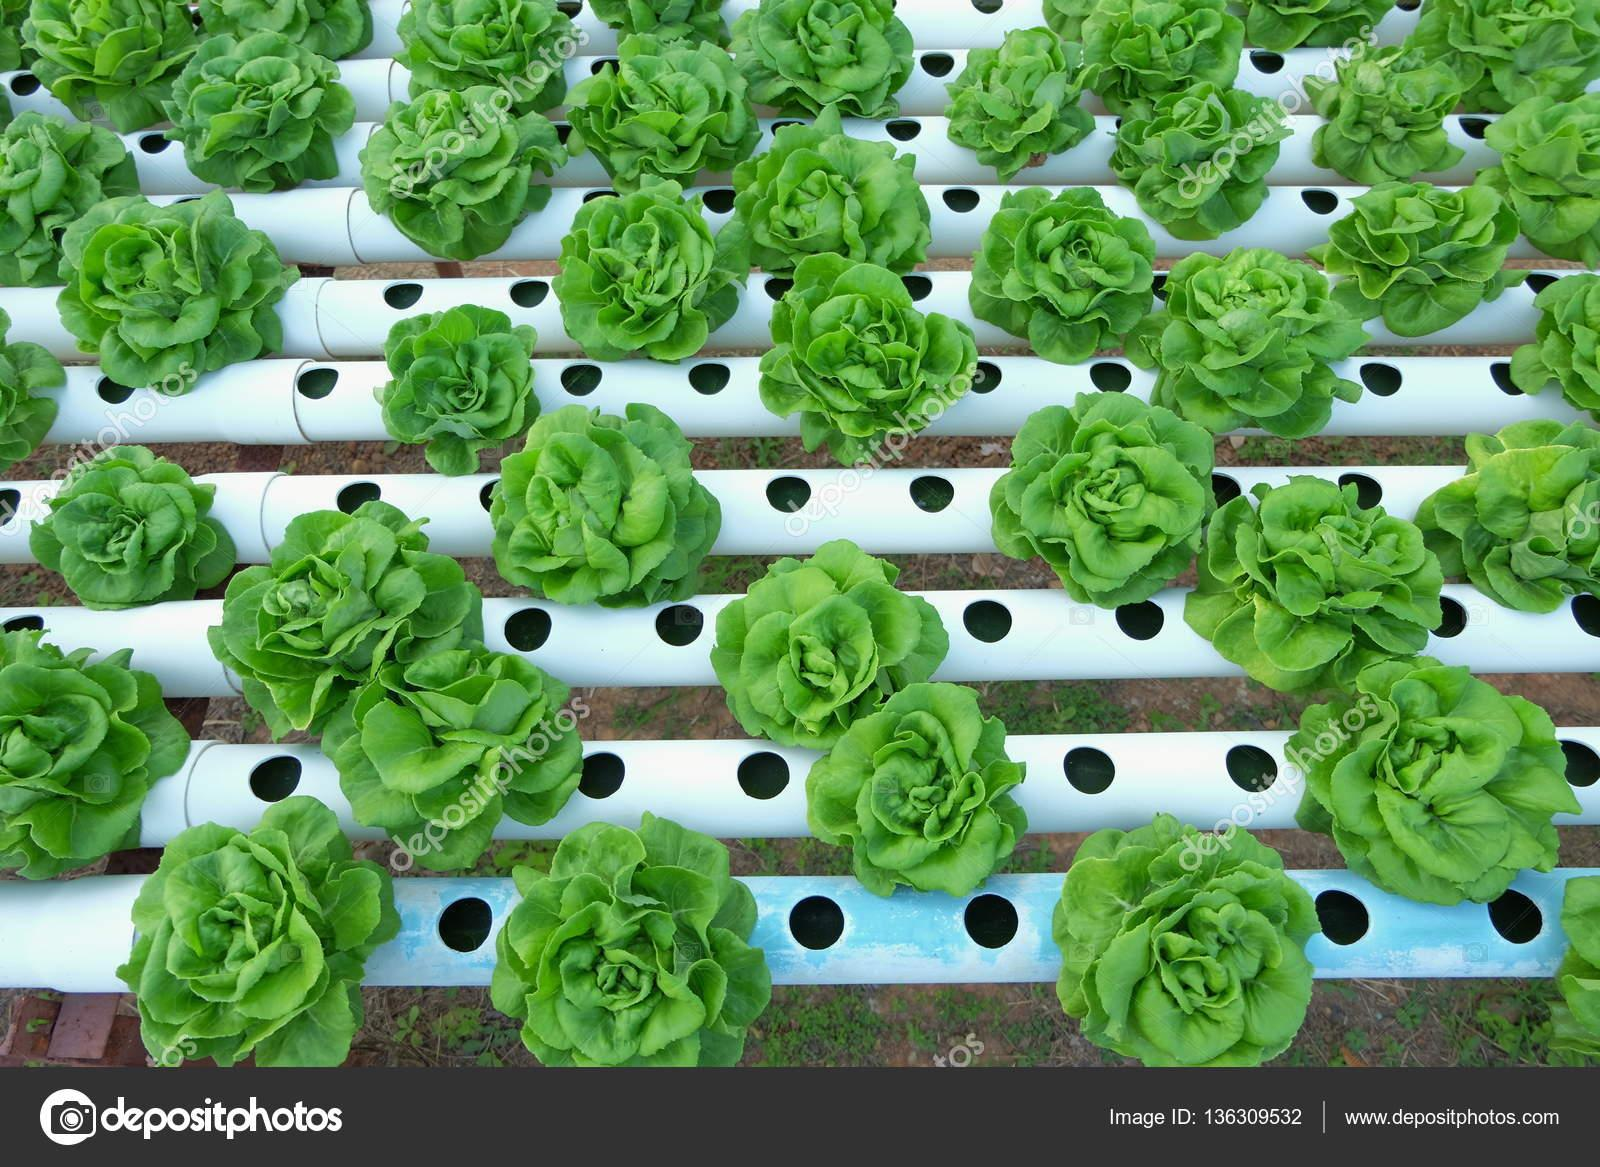cabbage: (134, 798, 394, 1064), (1301, 662, 1566, 904), (1060, 821, 1319, 1068), (214, 500, 481, 730), (328, 638, 586, 872), (506, 826, 752, 1063), (1201, 475, 1441, 684), (812, 674, 1034, 900), (711, 538, 952, 742), (2, 630, 188, 889), (1002, 391, 1214, 606), (494, 406, 729, 598), (60, 198, 291, 384), (1158, 236, 1366, 437), (769, 268, 978, 449), (358, 81, 561, 256), (735, 103, 930, 278), (34, 444, 234, 602), (971, 184, 1152, 358), (371, 301, 547, 478), (165, 31, 352, 194), (560, 183, 732, 355), (1340, 174, 1523, 334), (1451, 420, 1600, 605), (573, 35, 754, 176), (24, 4, 206, 134), (1123, 85, 1273, 239), (954, 27, 1094, 169), (1, 112, 120, 271), (399, 2, 566, 112), (1314, 58, 1453, 189), (753, 5, 914, 116), (1091, 7, 1247, 112)
